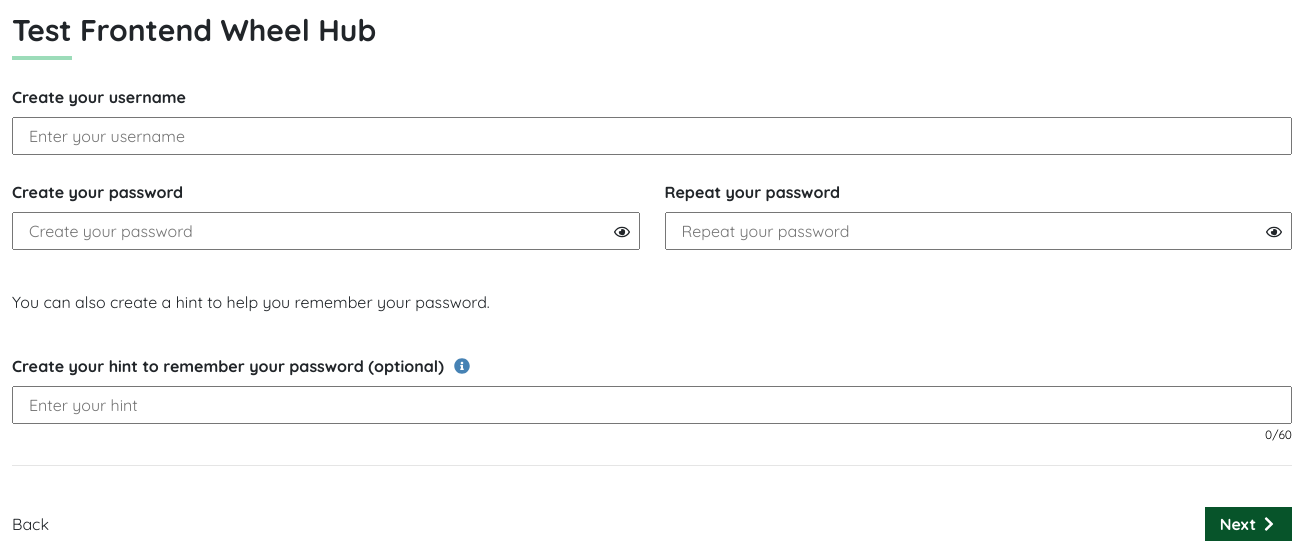
Test: UserForm › clicking next button with empty inputs gets warnings
Click the button "Next" at (1248, 524), box [1205,507,1292,541]
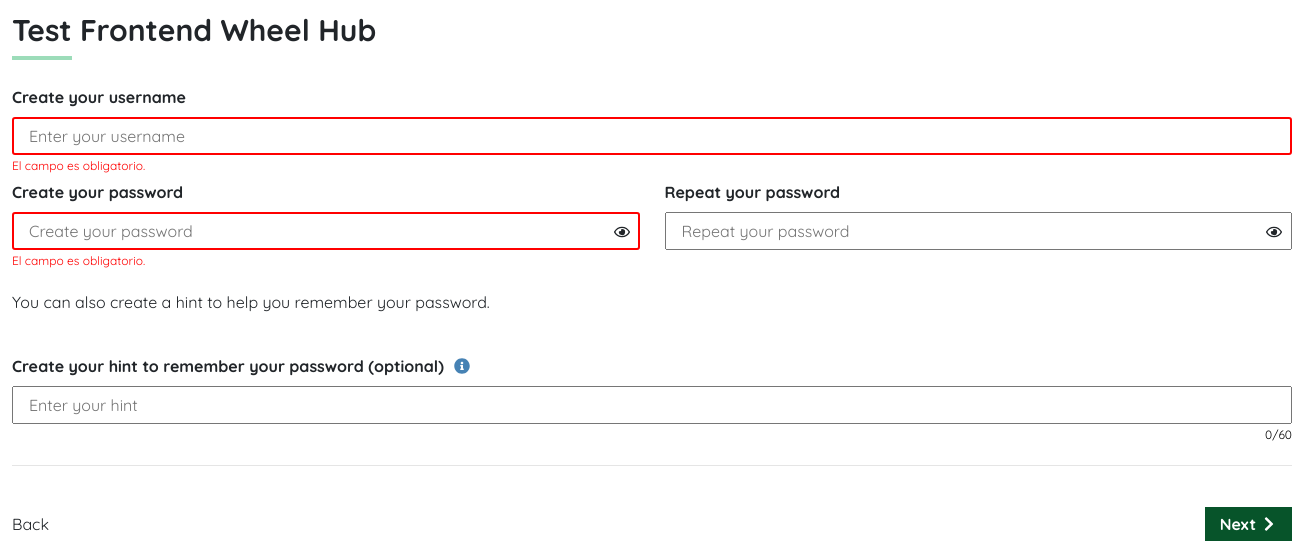
expect the text "El campo es obligatorio." below "Create your username" is shown: met, box [12,158,145,173]
expect the text "El campo es obligatorio." below "Create your password" is shown: met, box [12,253,145,268]
